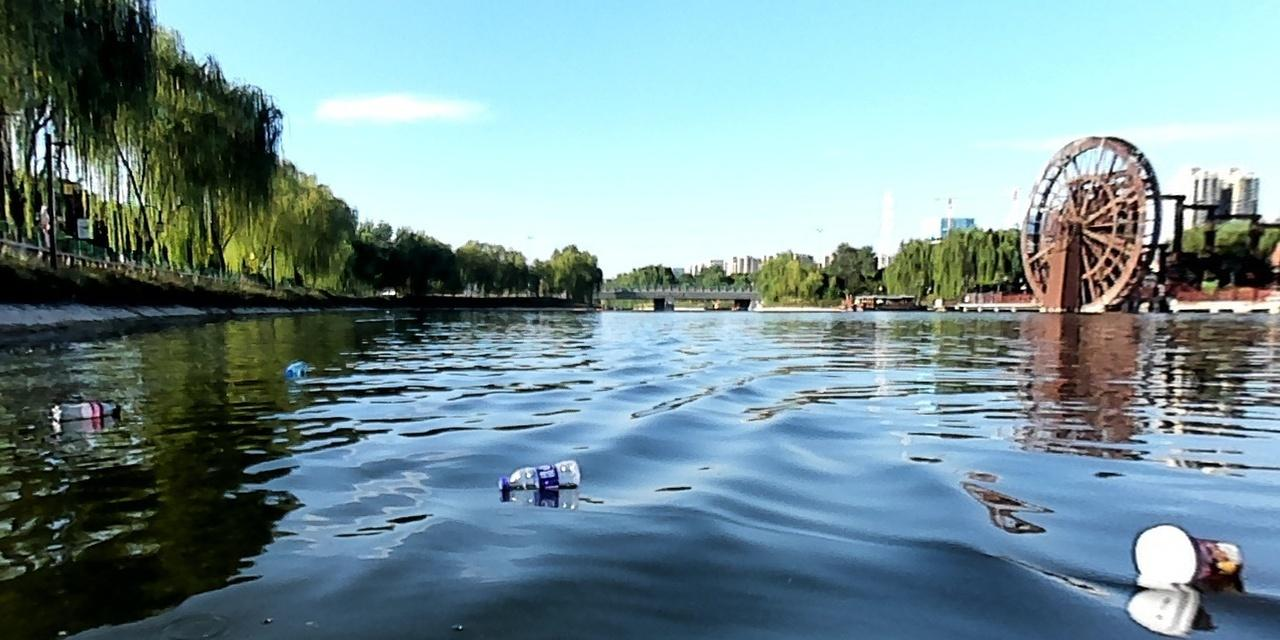bottle: (1128, 520, 1246, 586), (491, 455, 583, 498), (47, 395, 120, 422), (280, 356, 311, 381)
